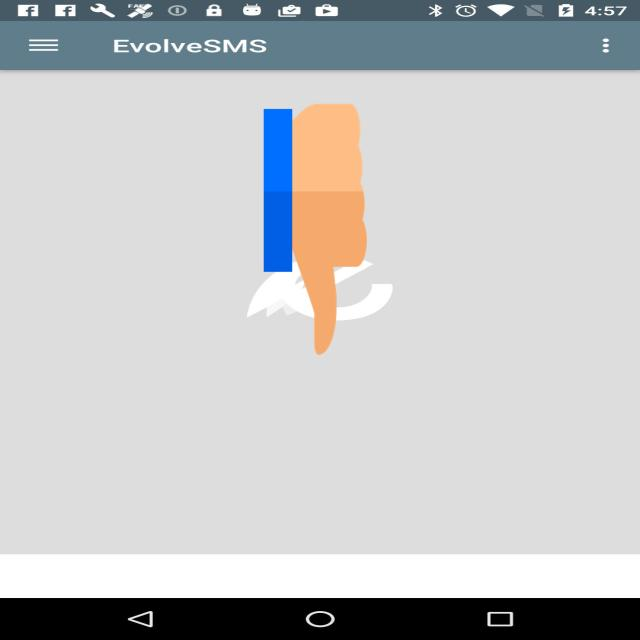obstruction: (264, 98, 367, 361)
